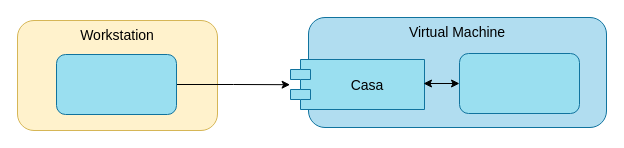
Some shapes in this 624 by 148 pixel diagram are drawn without their labels. Each missing label, with the centre of its shape:
Browser: the point at 116,84
Janssen Server: the point at 519,83
